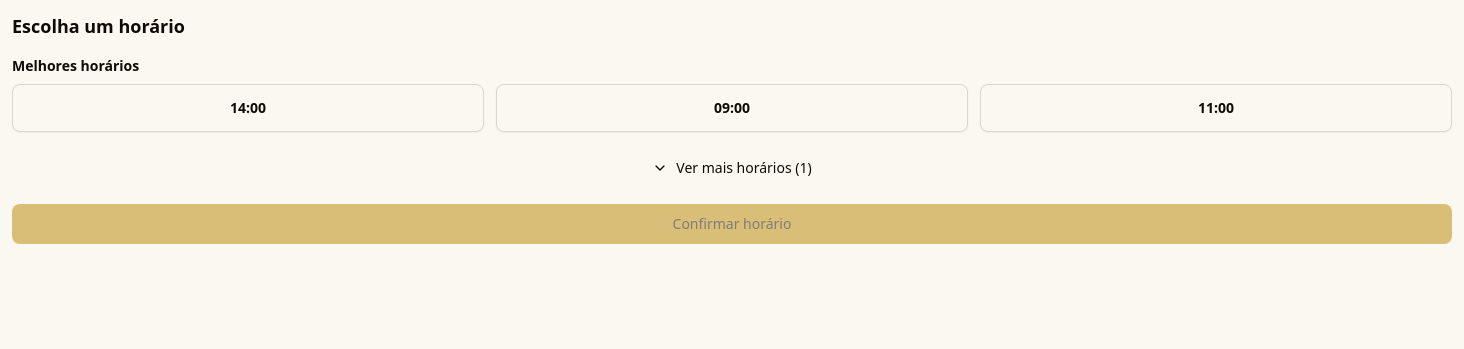
Scenario: ChatTimeSlotSelector › shows more available times on demand
Expected: the button "10:00" is not shown
Click the button "Ver mais horários (1)".
click(732, 168)  # box left=12, top=148, right=1452, bottom=188
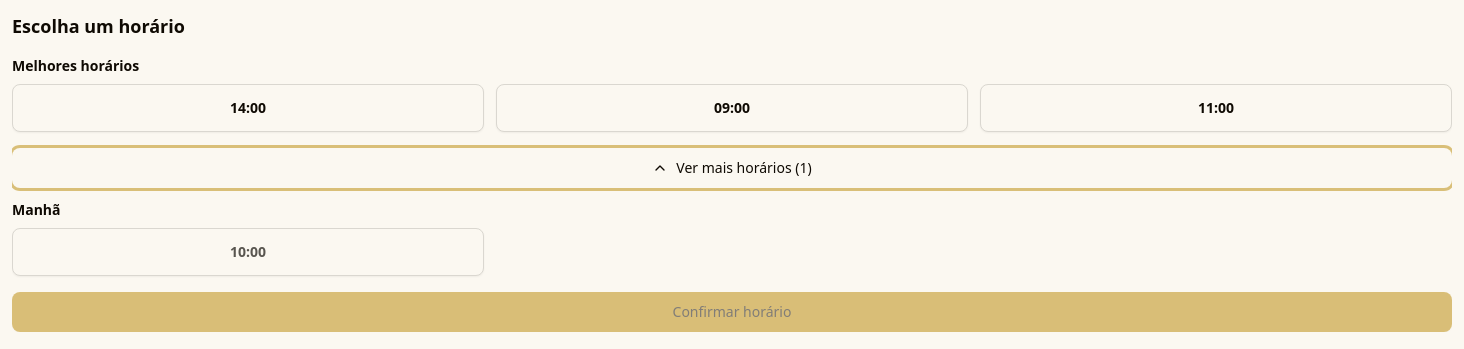
Expected: the button "10:00" is shown, left=12, top=228, right=484, bottom=276
